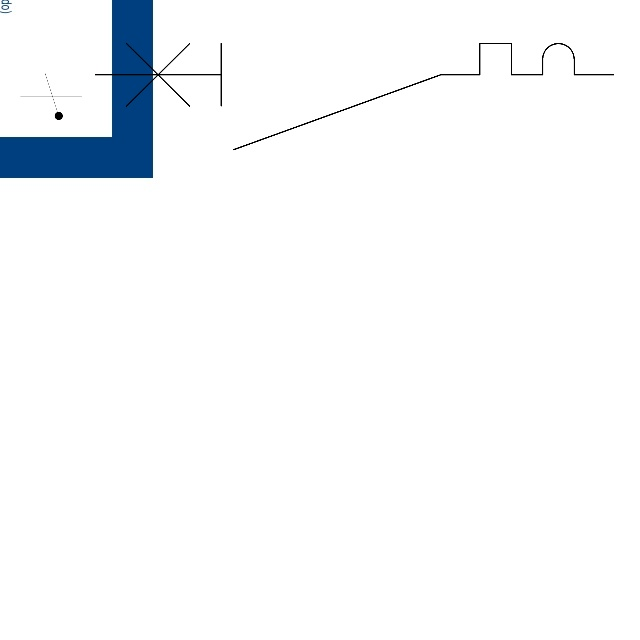interruptor_termomagnetico: (81, 30, 626, 163)
